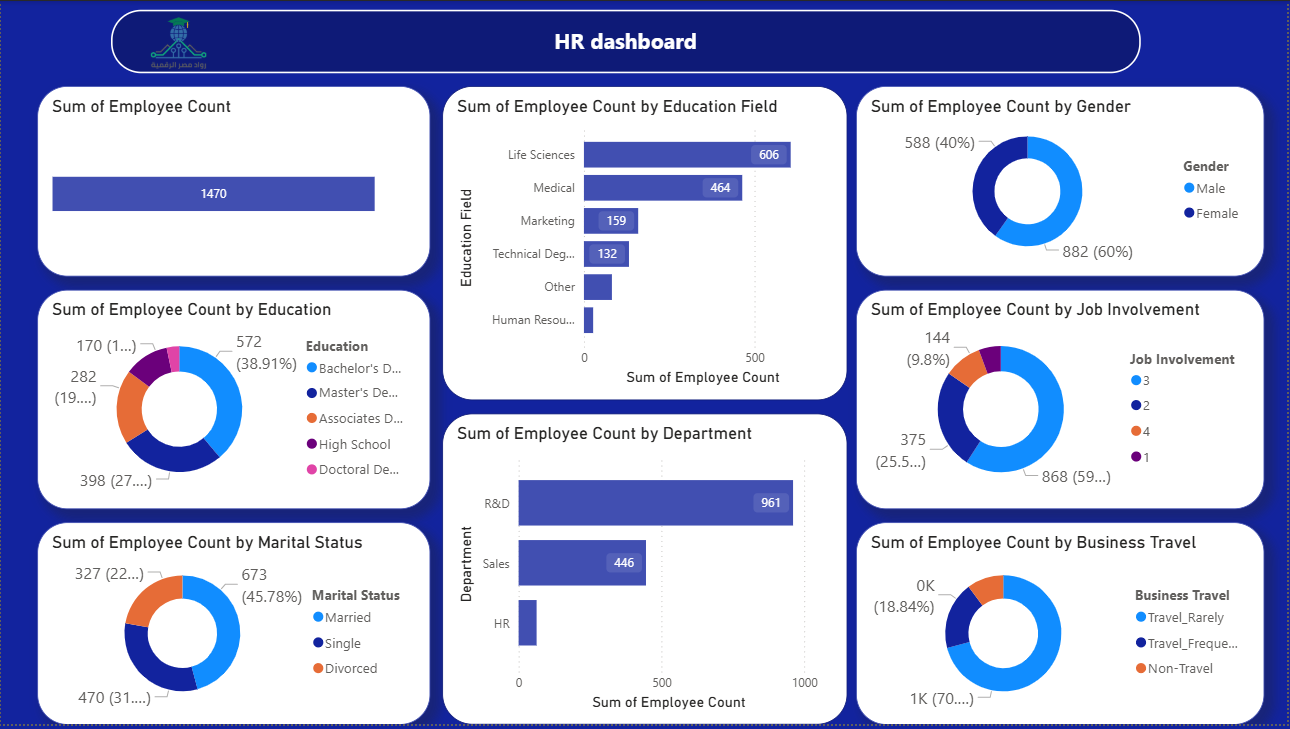

The page's visual inventory and layout, read from the dashboard file:
{"tool":"powerbi","page":{"name":"dashboard1","canvas":[1280,720],"ordinal":0},"visuals":[{"type":"barChart","fields":{"Y":["Sum(HR.Employee Count)"]},"box":[35.7,84.2,391.5,190],"z":0},{"type":"donutChart","fields":{"Y":["Sum(HR.Employee Count)"],"Category":["HR.Education"]},"box":[35.7,286.9,391.5,218.1],"z":1000},{"type":"donutChart","fields":{"Y":["Sum(HR.Employee Count)"],"Category":["HR.Marital Status"]},"box":[35.7,519,391.5,201.5],"z":2000},{"type":"donutChart","fields":{"Y":["Sum(HR.Employee Count)"],"Category":["HR.Gender"]},"box":[850.5,84.2,406.8,190],"z":3000},{"type":"barChart","fields":{"Y":["Sum(HR.Employee Count)"],"Category":["HR.Education Field"]},"box":[438.7,84.2,403,312.4],"z":4000},{"type":"donutChart","fields":{"Y":["Sum(HR.Employee Count)"],"Category":["HR.Job Involvement"]},"box":[850.5,286.9,406.8,218.1],"z":5000},{"type":"donutChart","fields":{"Y":["Sum(HR.Employee Count)"],"Category":["HR.Business Travel"]},"box":[850.5,519,406.8,201.5],"z":6000},{"type":"barChart","fields":{"Y":["Sum(HR.Employee Count)"],"Category":["HR.Department"]},"box":[438.7,410.6,403,309.9],"z":7000},{"type":"textbox","box":[109.5,8.7,1025,63.4],"z":8000},{"type":"image","box":[121.9,16.2,109.5,51],"z":9000}]}

Visuals, with their boxes in screenshot pixels (x1, y1, x2, y2), scaled from the page's 1280x720 canvas onto the 1290x729 screenshot:
barChart - Sum(HR.Employee Count): Rect(36, 85, 431, 278)
donutChart - Sum(HR.Employee Count) x HR.Education: Rect(36, 290, 431, 511)
donutChart - Sum(HR.Employee Count) x HR.Marital Status: Rect(36, 525, 431, 728)
donutChart - Sum(HR.Employee Count) x HR.Gender: Rect(857, 85, 1267, 278)
barChart - Sum(HR.Employee Count) x HR.Education Field: Rect(442, 85, 848, 402)
donutChart - Sum(HR.Employee Count) x HR.Job Involvement: Rect(857, 290, 1267, 511)
donutChart - Sum(HR.Employee Count) x HR.Business Travel: Rect(857, 525, 1267, 728)
barChart - Sum(HR.Employee Count) x HR.Department: Rect(442, 416, 848, 728)
textbox: Rect(110, 9, 1143, 73)
image: Rect(123, 16, 233, 68)
